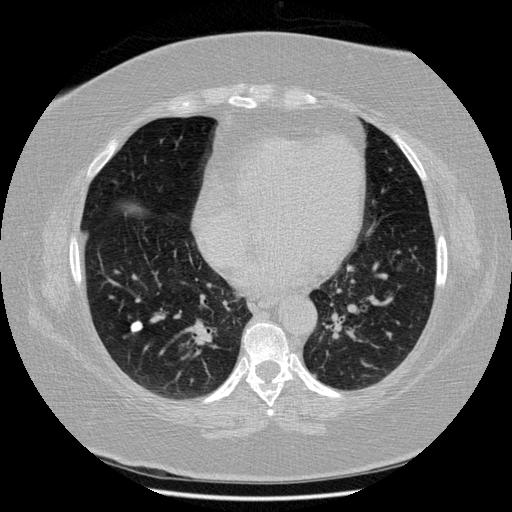nodule: (128, 318, 145, 335)
